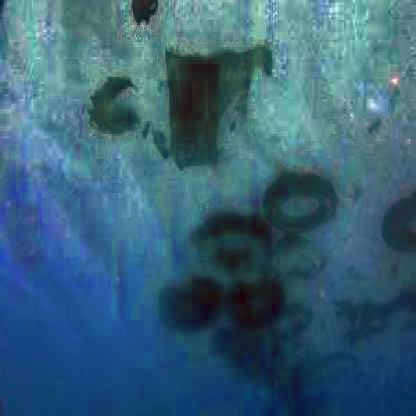tire: (197, 181, 273, 292), (273, 158, 343, 237), (159, 280, 233, 352), (228, 275, 296, 332)
